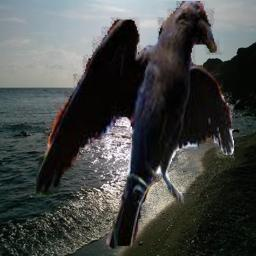Crow: (36, 1, 234, 249)
